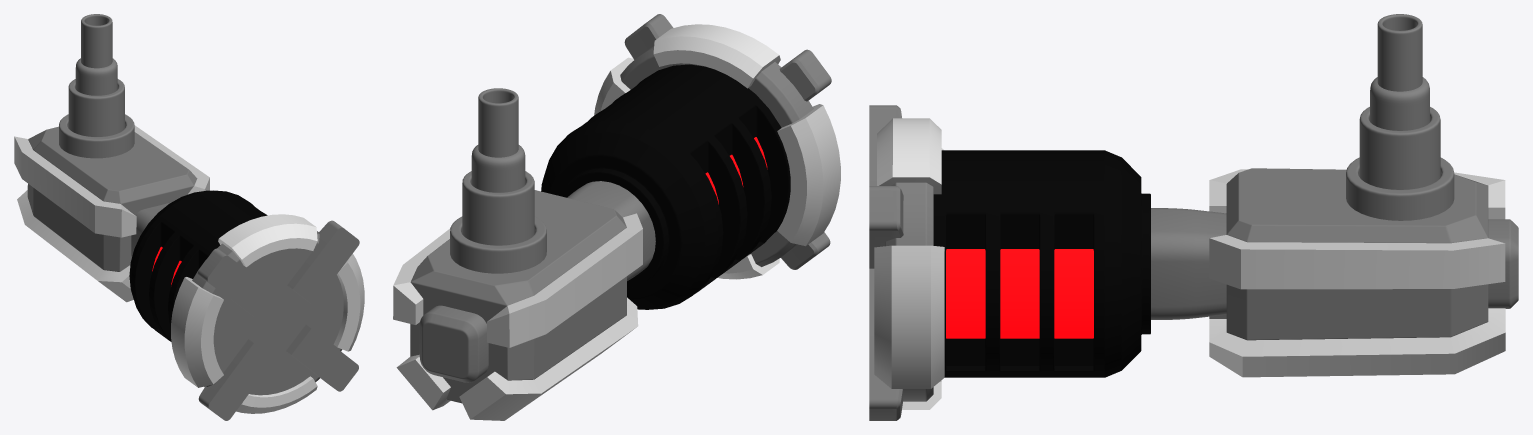
The model's file is LaserShooter1.fbx.
3 renders of one model, left to right at view 1: azimuth 30°, elevation 25°; view 2: azimuth 150°, elevation 25°; view 3: azimuth 270°, elevation 25°, orthographic. The views are drawn at different scales.
Parts seen in each view (by area): view 1: Cube.004, Cylinder.002, Cylinder.005, Cylinder.001, Cube.010, Cylinder.004, Cube.007, Cube.006, Cylinder.006_Plate.001, Cube.005, Cube.008, Cube.009 (+4 smaller); view 2: Cylinder.005, Cube.004, Cube.010, Cylinder.001, Cube.003, Cube.009, Cylinder.004, Cylinder.006_Plate.001, Cylinder.002, Cylinder.006_Plate.002, Cylinder.006_Plate, Cylinder.006 (+3 smaller); view 3: Cylinder.005, Cube.004, Cube.010, Cube.009, Cylinder.007, Cylinder.001, Cube.003, Cylinder.006_Plate.001, Cylinder.004, Cylinder.006_Plate.002, Cylinder.006_Plate, Cylinder.002 (+4 smaller).
Part boxes in pixels (x1=…): Cube.004: x1=27, y1=126, x2=197, y2=271; Cylinder.002: x1=192, y1=231, x2=343, y2=395; Cylinder.005: x1=129, y1=190, x2=267, y2=341; Cylinder.001: x1=171, y1=253, x2=364, y2=387; Cube.010: x1=14, y1=125, x2=209, y2=237; Cylinder.004: x1=218, y1=214, x2=317, y2=413; Cube.007: x1=287, y1=220, x2=359, y2=305; Cube.006: x1=198, y1=339, x2=274, y2=420; Cylinder.006_Plate.001: x1=68, y1=79, x2=124, y2=136; Cube.005: x1=197, y1=248, x2=275, y2=317; Cube.008: x1=286, y1=325, x2=358, y2=391; Cube.009: x1=17, y1=190, x2=133, y2=302; Cylinder.005: x1=541, y1=64, x2=790, y2=309; Cube.004: x1=410, y1=190, x2=626, y2=403; Cube.010: x1=393, y1=213, x2=642, y2=347; Cylinder.001: x1=594, y1=57, x2=840, y2=246; Cube.003: x1=419, y1=181, x2=655, y2=382; Cube.009: x1=396, y1=297, x2=638, y2=420; Cylinder.004: x1=653, y1=24, x2=780, y2=279; Cylinder.006_Plate.001: x1=462, y1=171, x2=534, y2=245; Cylinder.002: x1=620, y1=46, x2=813, y2=266; Cylinder.006_Plate.002: x1=450, y1=216, x2=546, y2=273; Cylinder.006_Plate: x1=478, y1=88, x2=518, y2=157; Cylinder.006: x1=471, y1=145, x2=525, y2=192; Cylinder.005: x1=933, y1=150, x2=1150, y2=377; Cube.004: x1=1226, y1=168, x2=1488, y2=340; Cube.010: x1=1209, y1=169, x2=1505, y2=289; Cube.009: x1=1209, y1=308, x2=1505, y2=377; Cylinder.007: x1=946, y1=249, x2=1093, y2=338; Cylinder.001: x1=874, y1=148, x2=944, y2=388; Cube.003: x1=1151, y1=208, x2=1518, y2=319; Cylinder.006_Plate.001: x1=1359, y1=107, x2=1440, y2=189; Cylinder.004: x1=877, y1=118, x2=941, y2=409; Cylinder.006_Plate.002: x1=1346, y1=157, x2=1454, y2=220; Cylinder.006_Plate: x1=1377, y1=14, x2=1422, y2=91; Cylinder.002: x1=885, y1=182, x2=933, y2=401.
Bounding box in the file's own units: 1249 × 1732 × 2730.
